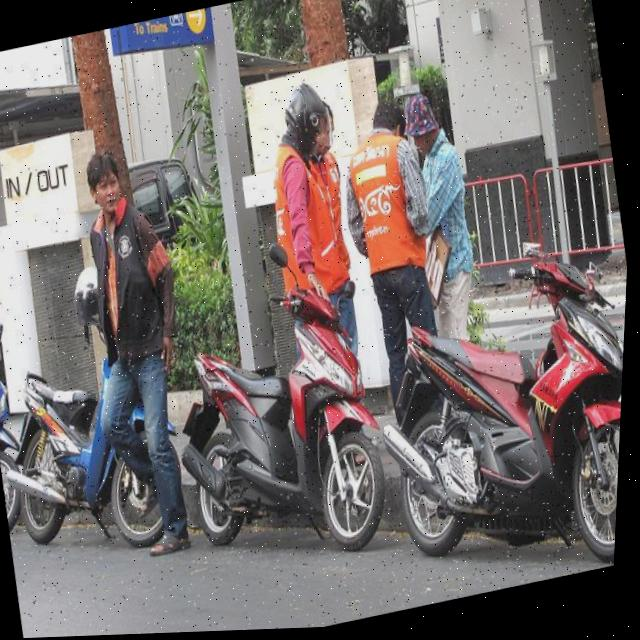motorcycle: (345, 217, 629, 611), (140, 222, 412, 596), (0, 307, 181, 578)
